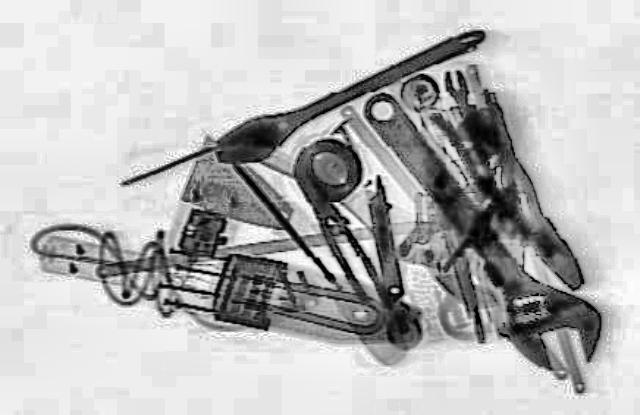Pliers: (424, 97, 618, 295), (294, 184, 398, 314)
Wrench: (322, 80, 630, 376), (191, 14, 505, 172), (436, 66, 494, 148)
